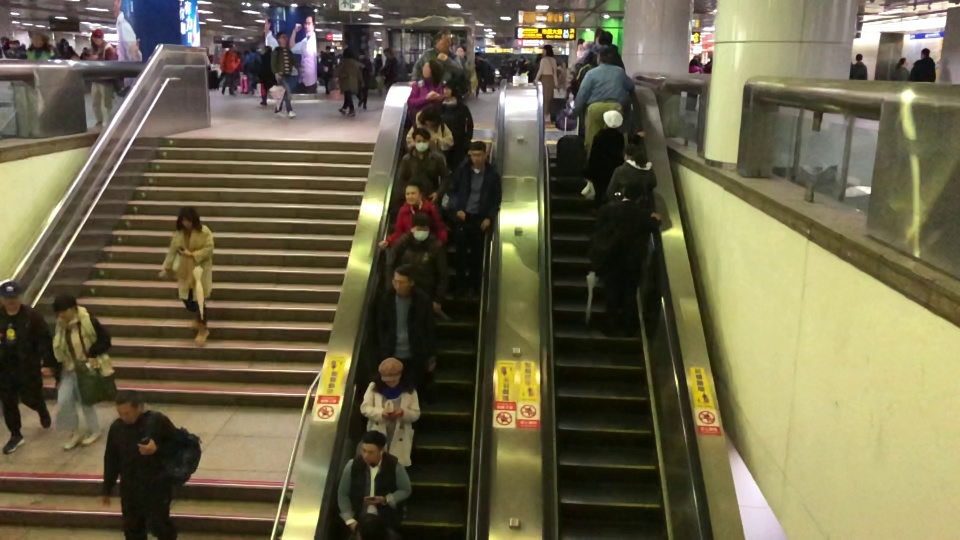person_head: (115, 391, 144, 423), (377, 357, 404, 388), (391, 265, 416, 298), (52, 292, 78, 321), (361, 429, 381, 464), (624, 141, 650, 165), (410, 214, 432, 241), (0, 282, 21, 310), (177, 208, 198, 233), (622, 178, 642, 201), (470, 140, 487, 166), (412, 129, 431, 152), (420, 106, 441, 126), (441, 76, 460, 98), (422, 61, 441, 83), (435, 29, 452, 53), (596, 47, 617, 66), (404, 179, 420, 203), (604, 109, 623, 129), (599, 31, 615, 47), (90, 28, 105, 45), (277, 31, 288, 45), (541, 43, 552, 57), (896, 54, 907, 66), (921, 46, 931, 59), (855, 52, 865, 62), (343, 47, 351, 58), (229, 43, 236, 51), (384, 48, 391, 56), (359, 48, 365, 56), (324, 45, 330, 52), (250, 45, 255, 53)
person_vbox: (104, 389, 179, 540), (596, 176, 659, 322), (46, 292, 101, 451), (338, 430, 412, 539), (0, 280, 45, 459), (160, 206, 214, 348), (377, 262, 437, 372), (362, 359, 420, 470), (577, 47, 635, 151), (378, 178, 449, 260), (454, 139, 503, 232), (397, 127, 448, 192), (411, 29, 465, 90), (610, 139, 658, 207), (391, 211, 442, 274), (593, 108, 625, 201), (434, 75, 474, 144), (269, 28, 298, 120), (87, 27, 113, 126), (404, 105, 457, 151), (532, 41, 559, 119), (406, 61, 445, 105), (339, 47, 360, 118), (582, 42, 627, 70), (221, 42, 241, 98), (379, 47, 398, 99), (243, 41, 260, 97), (909, 55, 939, 86), (356, 48, 370, 112), (320, 44, 337, 95), (262, 45, 274, 107), (688, 59, 699, 110), (29, 32, 50, 58), (890, 63, 909, 86), (848, 62, 869, 80), (693, 55, 704, 74), (705, 51, 713, 74), (63, 42, 74, 58), (374, 52, 382, 74)
